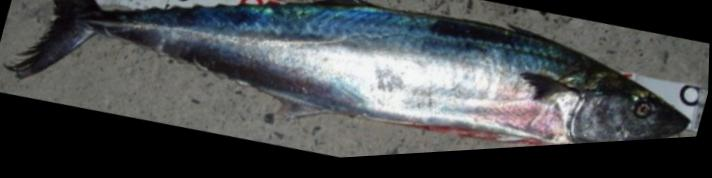fish: (4, 0, 688, 153)
